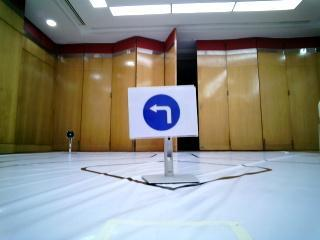left: (129, 90, 194, 137)
